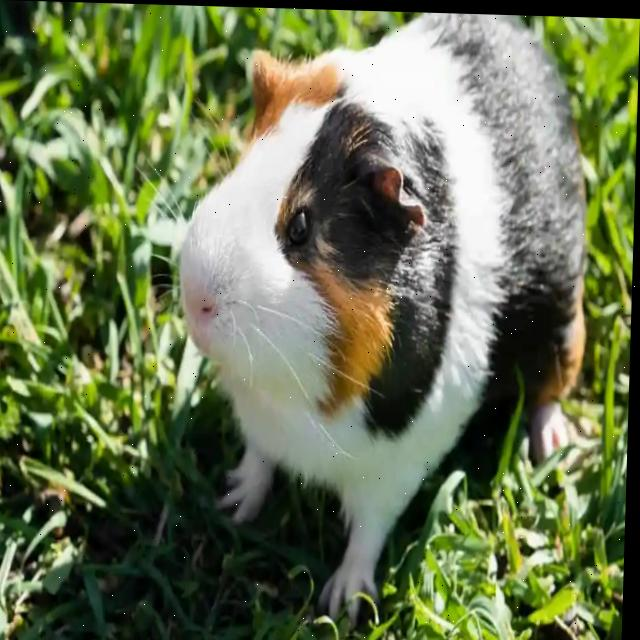guinea pig: (172, 4, 594, 625)
